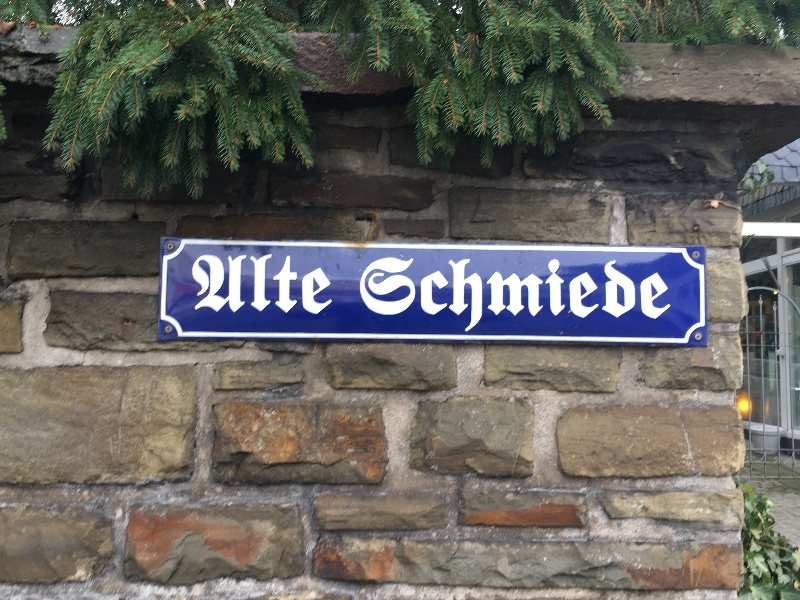text: (369, 254, 384, 337), (385, 254, 400, 337), (401, 254, 416, 337), (417, 254, 432, 337), (433, 254, 448, 337), (449, 254, 464, 337), (465, 254, 480, 337), (481, 254, 496, 337), (497, 254, 512, 337), (513, 254, 528, 337), (529, 254, 544, 337), (545, 254, 560, 337), (561, 254, 576, 337), (577, 254, 592, 337), (593, 254, 608, 337), (609, 254, 624, 337), (625, 254, 640, 337), (641, 254, 656, 337), (657, 254, 672, 337), (356, 254, 368, 337), (193, 254, 208, 319), (209, 254, 224, 319), (225, 254, 240, 319), (241, 254, 256, 319), (257, 254, 272, 319), (273, 254, 288, 319), (289, 254, 304, 319), (305, 254, 320, 319), (321, 254, 334, 319)
